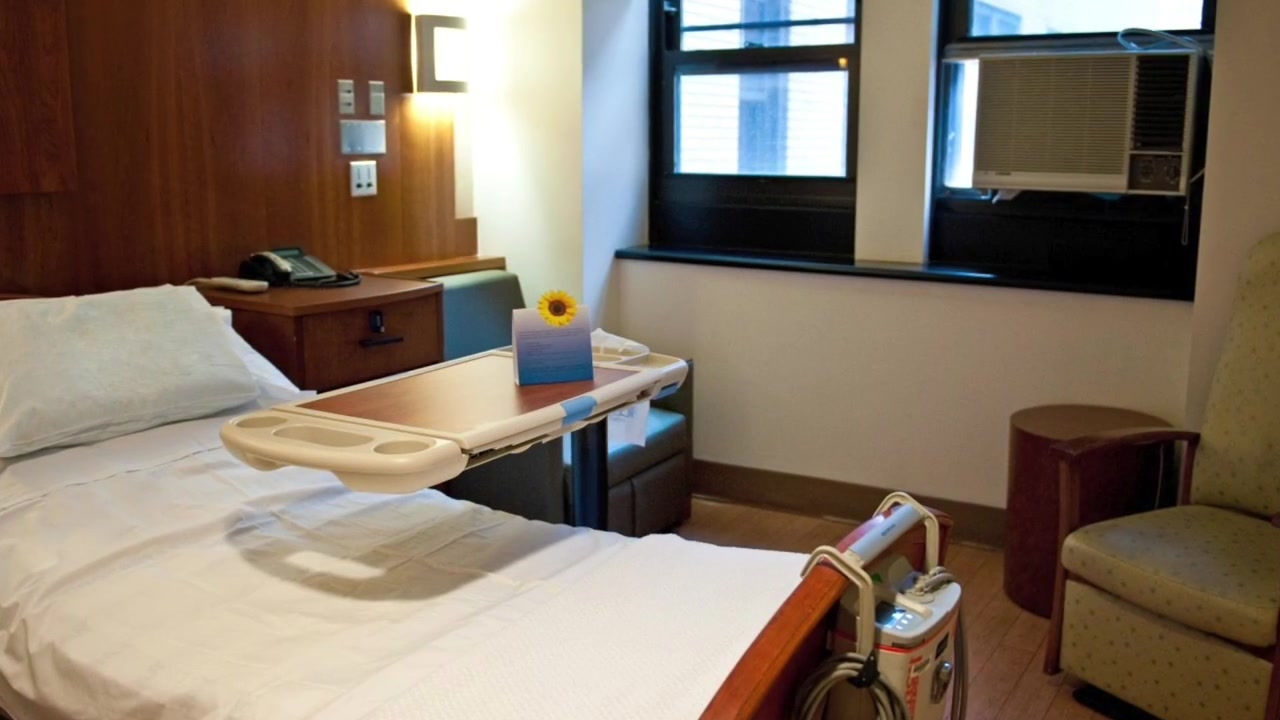bedside_table: (195, 269, 442, 390)
foot_board: (699, 509, 966, 720)
handle: (361, 332, 408, 349)
hospital_bed: (1, 284, 948, 720)
overbed_table: (219, 337, 685, 534)
sequential_compression: (843, 532, 970, 720)
sofa: (1049, 224, 1280, 720), (423, 271, 695, 535)
table: (1002, 404, 1171, 616)
telephone: (240, 248, 337, 288)
